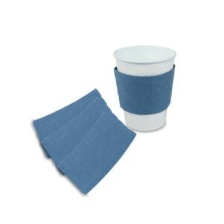paper_cup: (107, 38, 179, 136)
